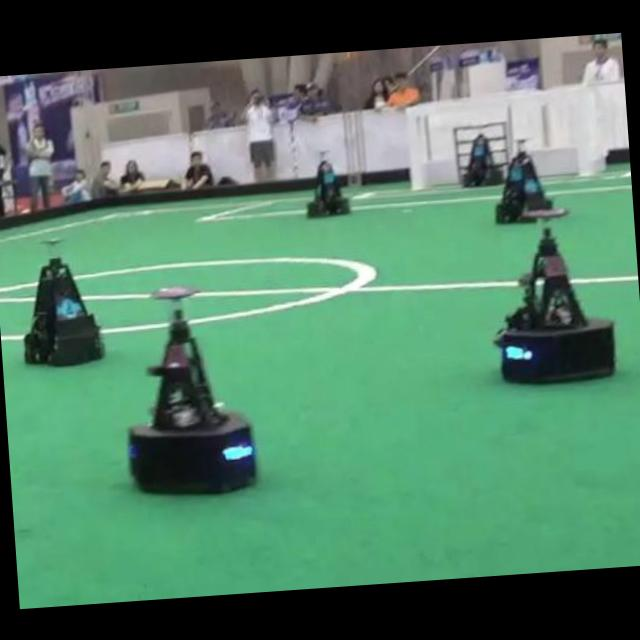goal: (571, 88, 592, 175), (405, 105, 425, 188)
robot: (130, 288, 255, 490), (497, 227, 613, 380), (24, 257, 103, 364), (495, 147, 551, 222), (452, 121, 508, 186), (306, 159, 350, 216)
